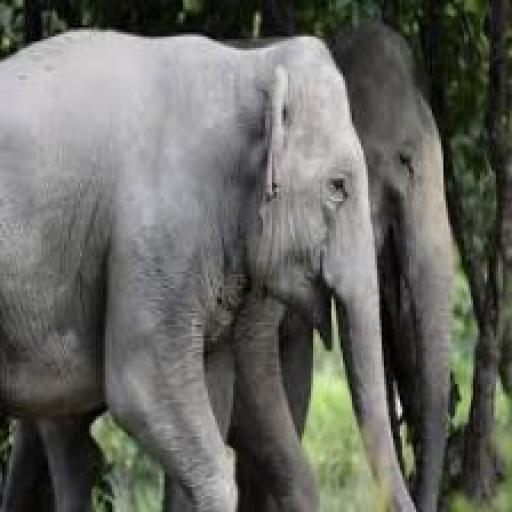Elephant: (18, 14, 445, 483)
